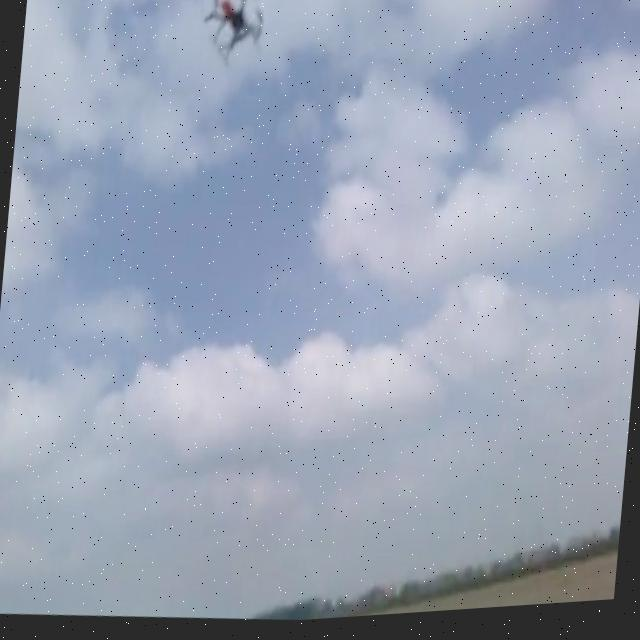drone: (196, 0, 272, 80)
